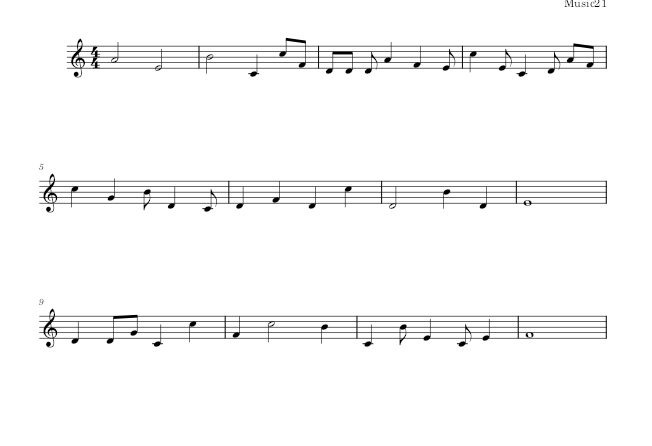Treble Clef: (39, 171, 60, 217), (40, 306, 61, 352), (67, 35, 86, 83)
